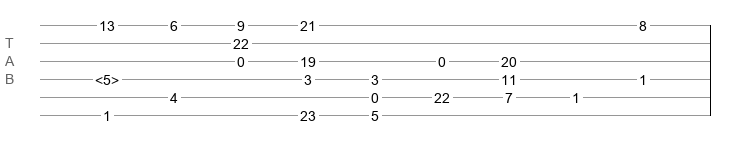0: (237, 54, 245, 64), (371, 90, 379, 100), (438, 54, 446, 64)
1: (103, 108, 111, 118), (572, 90, 580, 100), (639, 72, 647, 82)
11: (501, 72, 517, 82)
13: (99, 18, 115, 28)
19: (300, 54, 316, 64)
20: (501, 54, 517, 64)
21: (300, 18, 316, 28)
22: (233, 36, 249, 46), (434, 90, 450, 100)
23: (300, 108, 316, 118)
3: (304, 72, 312, 82), (371, 72, 379, 82)
4: (170, 90, 178, 100)
5: (371, 108, 379, 118)
6: (170, 18, 178, 28)
7: (505, 90, 513, 100)
8: (639, 18, 647, 28)
9: (237, 18, 245, 28)
harmonic: (95, 72, 119, 82)
